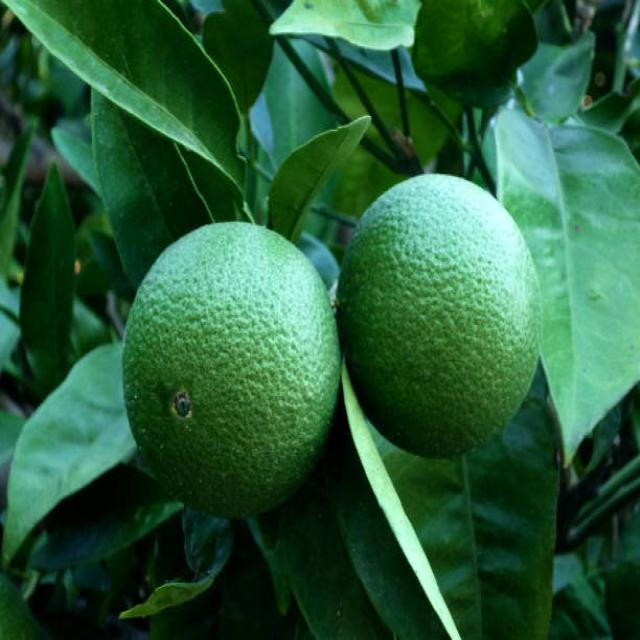Unripe: (126, 222, 342, 521), (341, 173, 544, 463)
